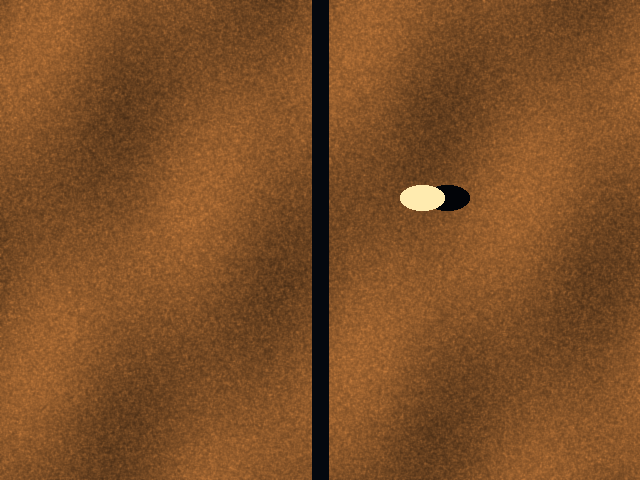Bottle: (400, 185, 444, 210)
